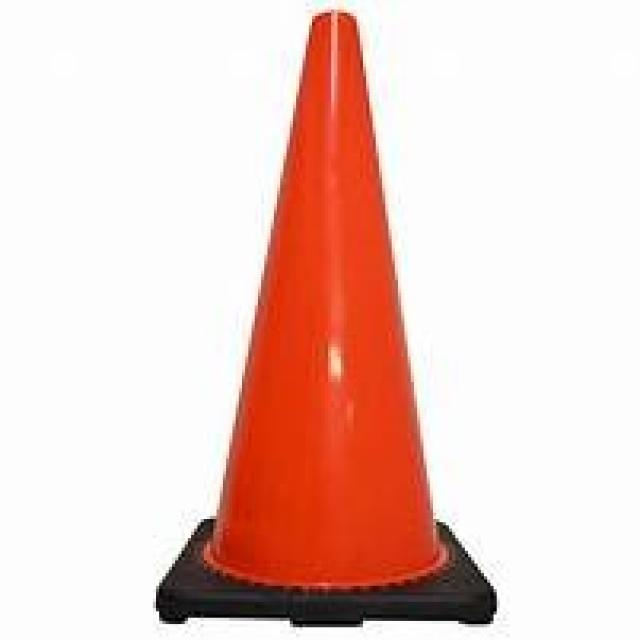traffic cone: (148, 5, 508, 640)
